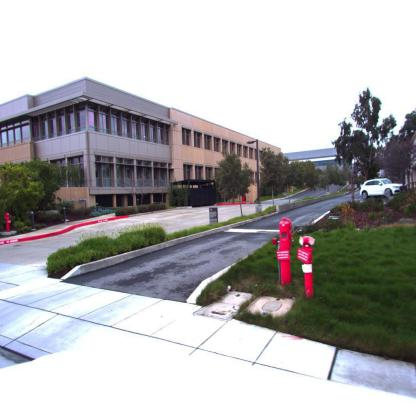car: (358, 178, 402, 199)
person: (5, 212, 13, 233)
